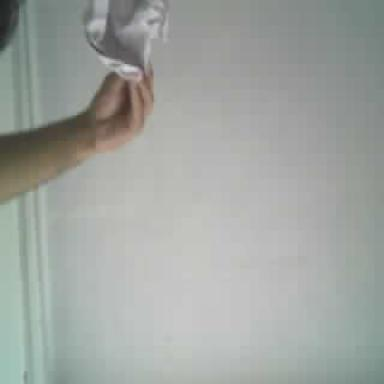paper: (86, 0, 168, 78)
